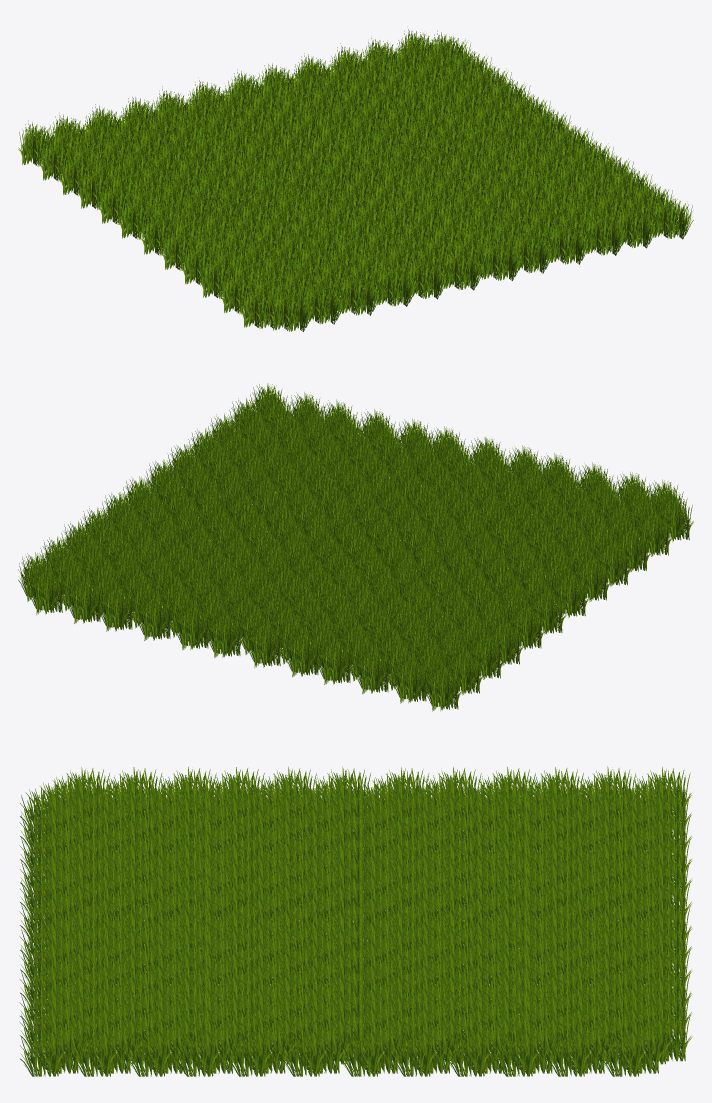
Rendered from field-green.glb.
3 renders of one model, top to bottom at view 1: azimuth 30°, elevation 25°; view 2: azimuth 150°, elevation 25°; view 3: azimuth 270°, elevation 25°, orthographic. The views are drawn at different scales.
Parts seen in each view (by area): view 1: 78f67a44e13965ae3008bbb284401925.000_78f67a44e13965ae3008bbb; view 2: 78f67a44e13965ae3008bbb284401925.000_78f67a44e13965ae3008bbb; view 3: 78f67a44e13965ae3008bbb284401925.000_78f67a44e13965ae3008bbb.
Boxes of the visible parts, box(x1,y1,x2,y2) form: 78f67a44e13965ae3008bbb284401925.000_78f67a44e13965ae3008bbb: box(18, 29, 693, 331); 78f67a44e13965ae3008bbb284401925.000_78f67a44e13965ae3008bbb: box(18, 383, 693, 711); 78f67a44e13965ae3008bbb284401925.000_78f67a44e13965ae3008bbb: box(19, 766, 692, 1076).
Size of the model in its own units: 16.35 by 1.58 by 16.56.
1 material, 1 textured.
